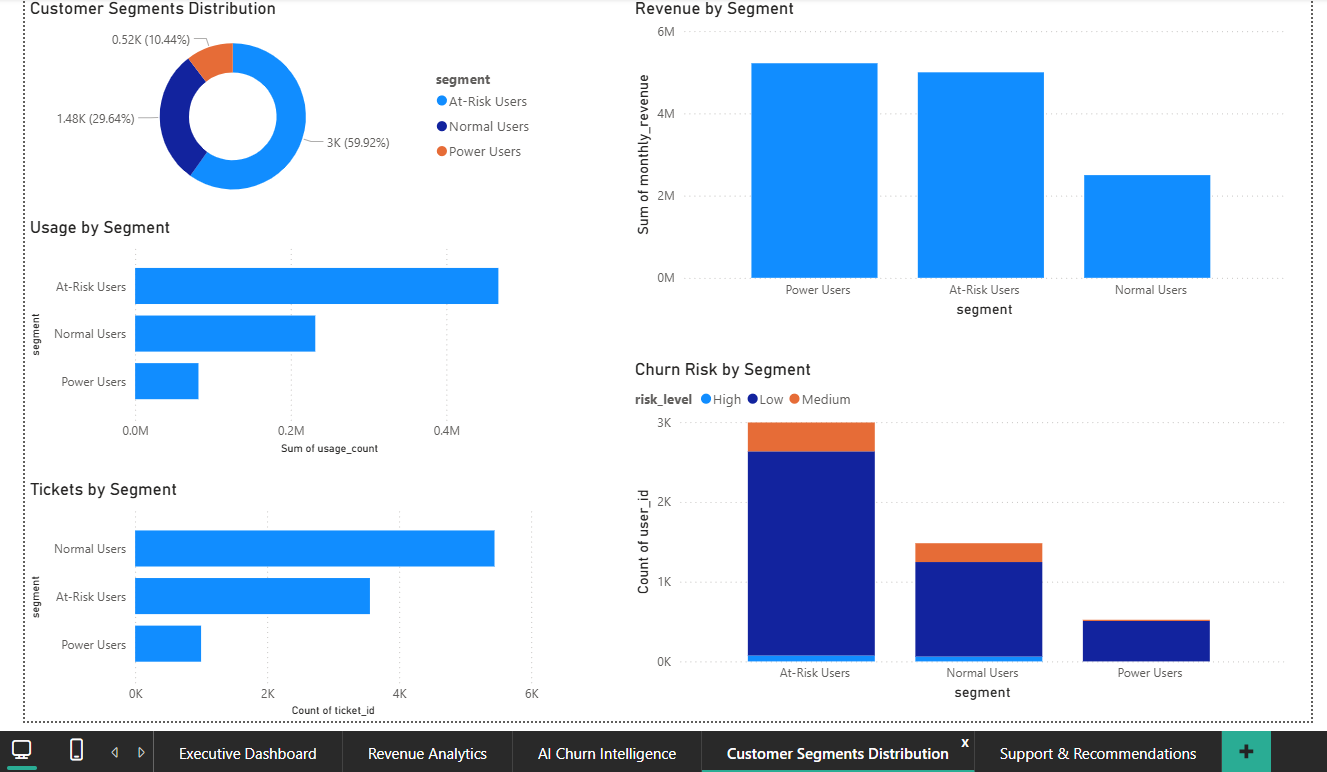

The page's visual inventory and layout, read from the dashboard file:
{"tool":"powerbi","page":{"name":"Customer Segments Distribution","canvas":[1280,720],"ordinal":3},"visuals":[{"type":"donutChart","title":"Customer Segments Distribution","fields":{"Category":["fact_customer_segments.segment"],"Y":["CountNonNull(Dim_users.user_id)"]},"box":[0,0,516,216.8],"z":0},{"type":"clusteredColumnChart","title":"Revenue by Segment","fields":{"Category":["fact_customer_segments.segment"],"Y":["Sum(fact_customer_segments.monthly_revenue)"]},"box":[602.4,0,655.9,322.5],"z":1000},{"type":"barChart","title":"Usage by Segment","fields":{"Category":["fact_customer_segments.segment"],"Y":["Sum(fact_feature_usage.usage_count)"]},"box":[0,218.2,516,241.5],"z":2000},{"type":"clusteredBarChart","title":"Tickets by Segment","fields":{"Category":["fact_customer_segments.segment"],"Y":["CountNonNull(fact_support_ticket_analysis.ticket_id)"]},"box":[0,478.9,516,241.5],"z":3000},{"type":"columnChart","title":"Churn Risk by Segment","fields":{"Category":["fact_customer_segments.segment"],"Y":["CountNonNull(Dim_users.user_id)"],"Series":["fact_churn_predictions.risk_level"]},"box":[602.4,359.5,655.9,344.4],"z":4000}]}

Visuals, with their boxes on the page's 1280x720 design canvas (x1, y1, x2, y2). These are canvas units, not pixel positions in the 1327x772 screenshot, which may show the page scaled, cropped or inside an application window:
"Customer Segments Distribution" donutChart: 0, 0, 516, 217
"Revenue by Segment" clusteredColumnChart: 602, 0, 1258, 322
"Usage by Segment" barChart: 0, 218, 516, 460
"Tickets by Segment" clusteredBarChart: 0, 479, 516, 720
"Churn Risk by Segment" columnChart: 602, 360, 1258, 704
